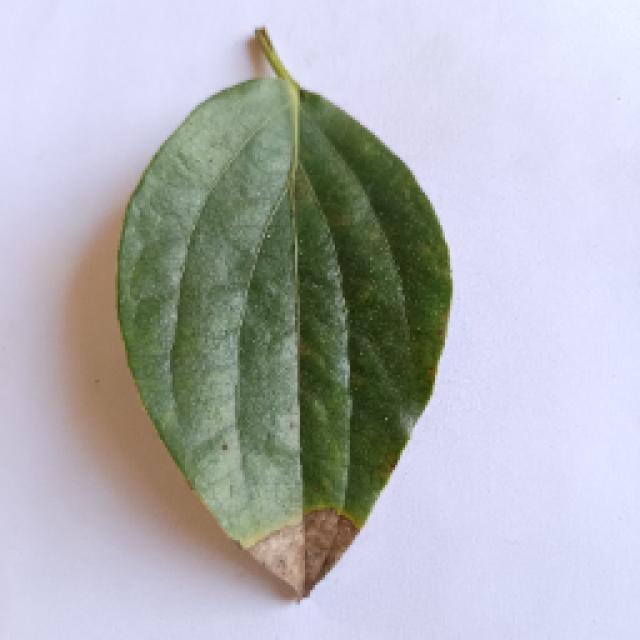footrot: (77, 38, 465, 600)
